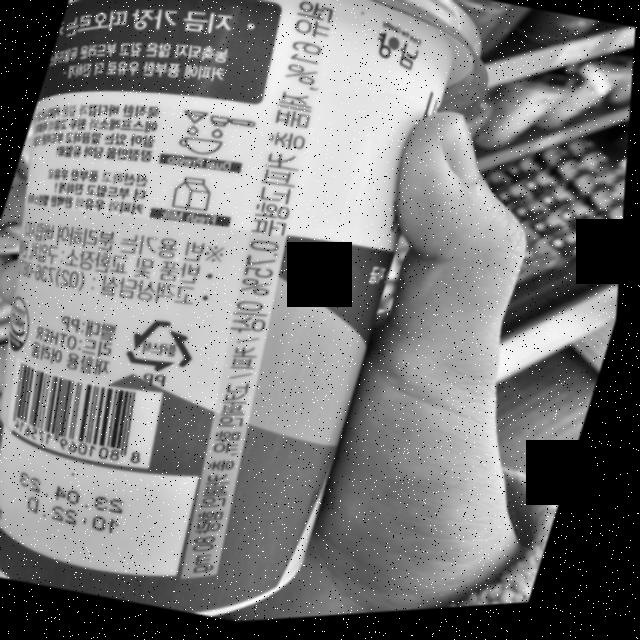Plastic: (124, 310, 213, 385)
